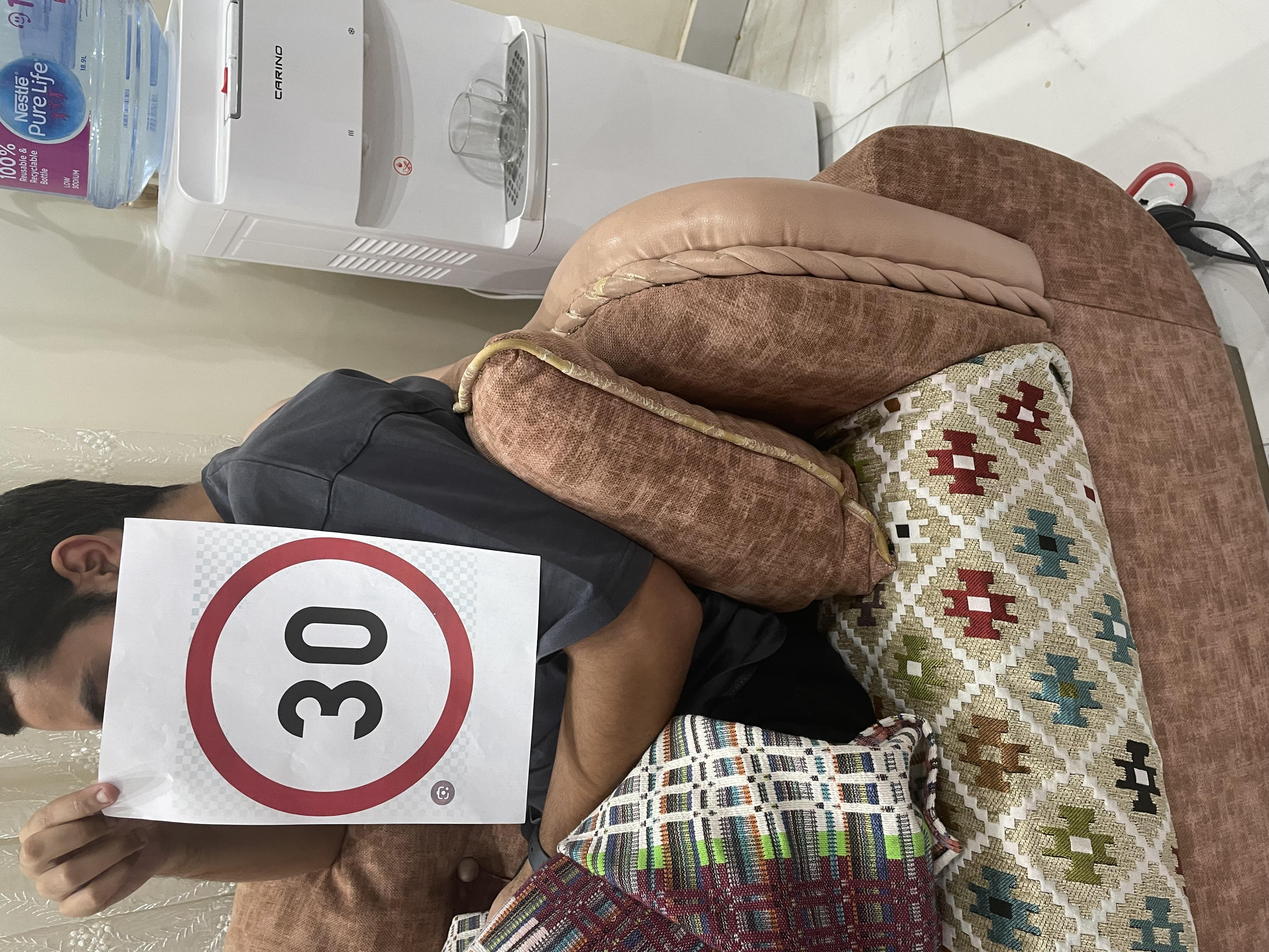30-speed: (177, 135, 563, 360)
